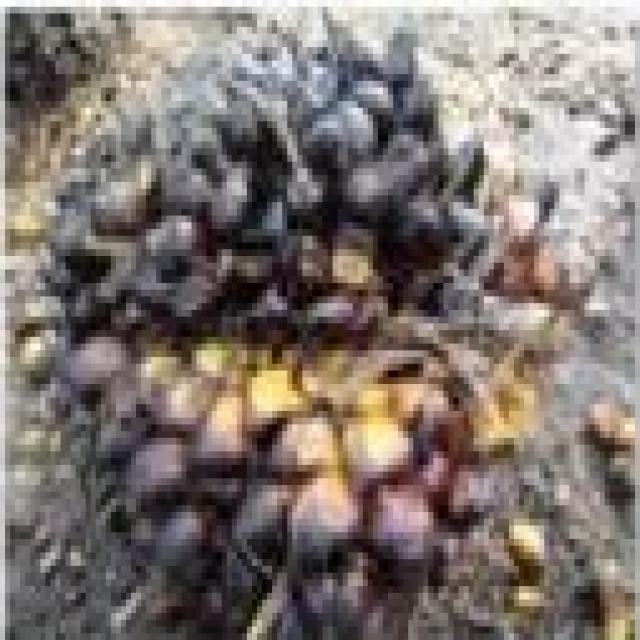FFB: (25, 54, 534, 640)
